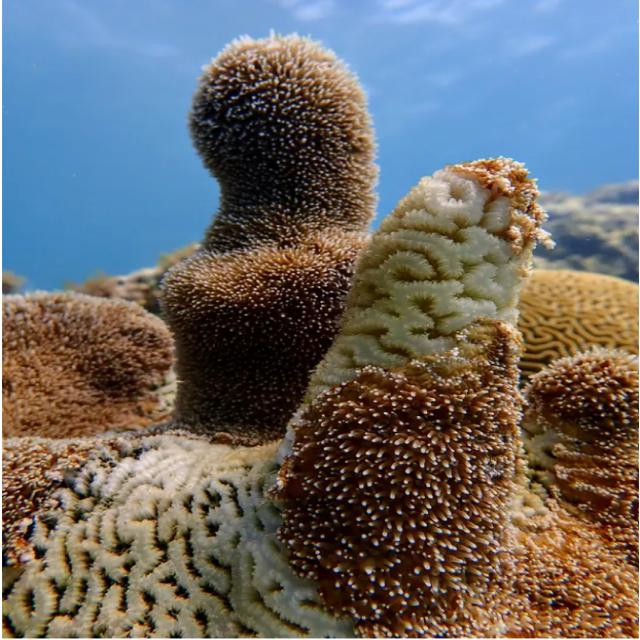Coral: (0, 156, 640, 640), (159, 27, 383, 445), (525, 344, 640, 569), (4, 292, 178, 439), (515, 267, 640, 389)
